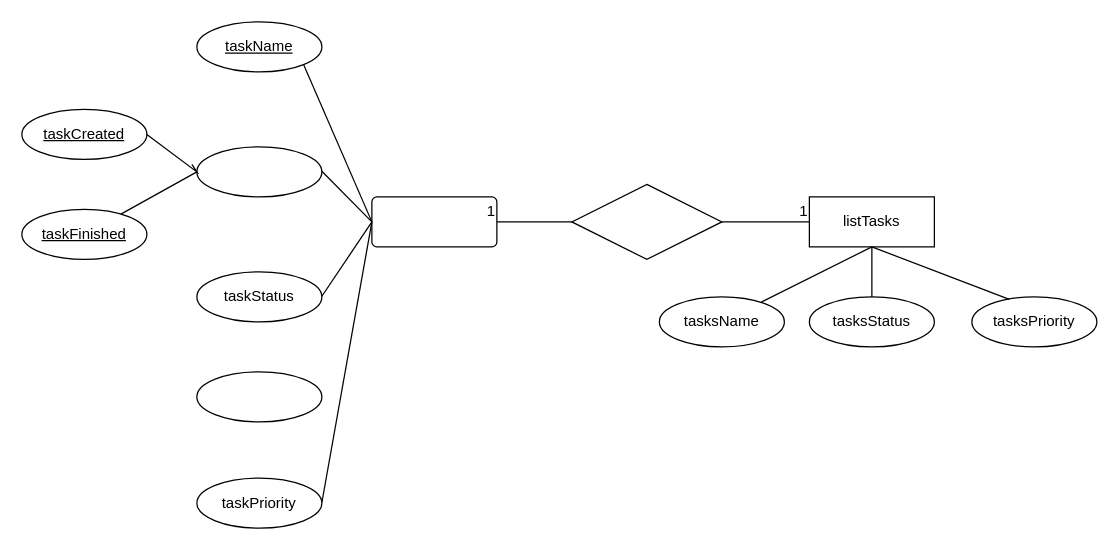
This 1119x550 diagram has some shape labels left out. Each missing label, with the box of its shape:
has: (571, 183, 722, 259)
task: (371, 196, 497, 247)
taskDescription: (196, 371, 322, 422)
taskTime: (196, 146, 322, 197)
